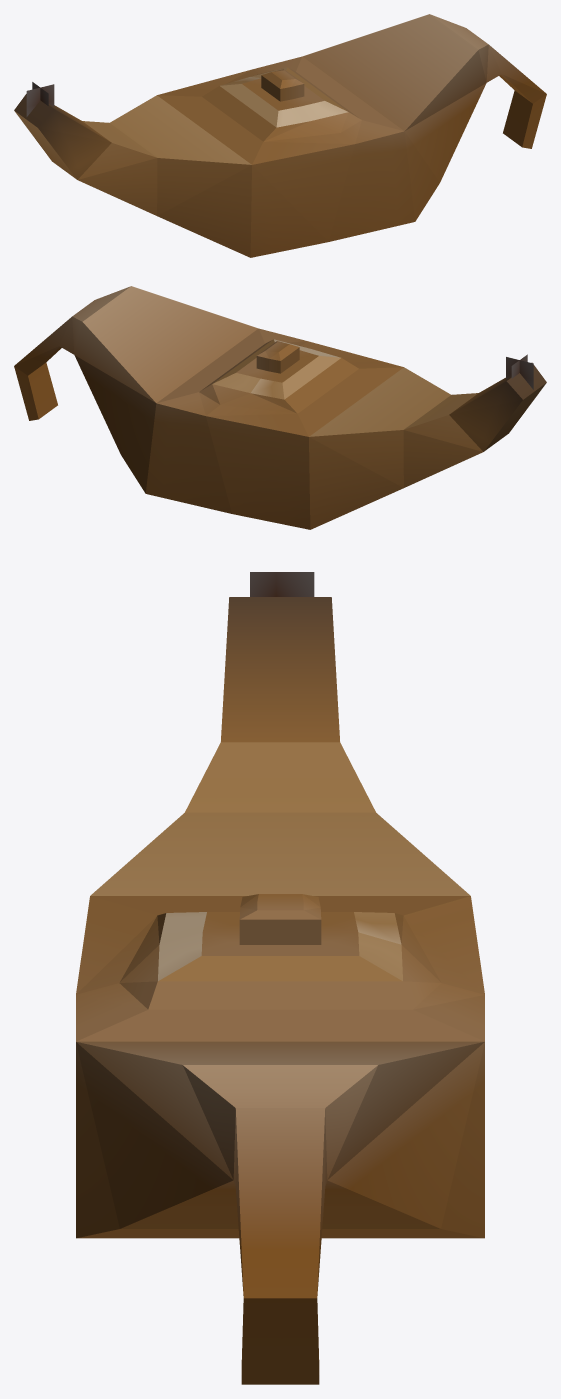
The model's file is spent_light_997x08.obj.
3 renders of one model, top to bottom at view 1: azimuth 30°, elevation 25°; view 2: azimuth 150°, elevation 25°; view 3: azimuth 270°, elevation 25°, orthographic. The views are drawn at different scales.
Visible parts, largest first — view 1: spent_light_997x08; view 2: spent_light_997x08; view 3: spent_light_997x08.
Part boxes in pixels (x1,y1,x2,y2): spent_light_997x08: (14, 14, 546, 257); spent_light_997x08: (14, 286, 546, 529); spent_light_997x08: (76, 572, 484, 1384).
Bounding box in the file's own units: 1.15 × 0.3752 × 0.3964.
